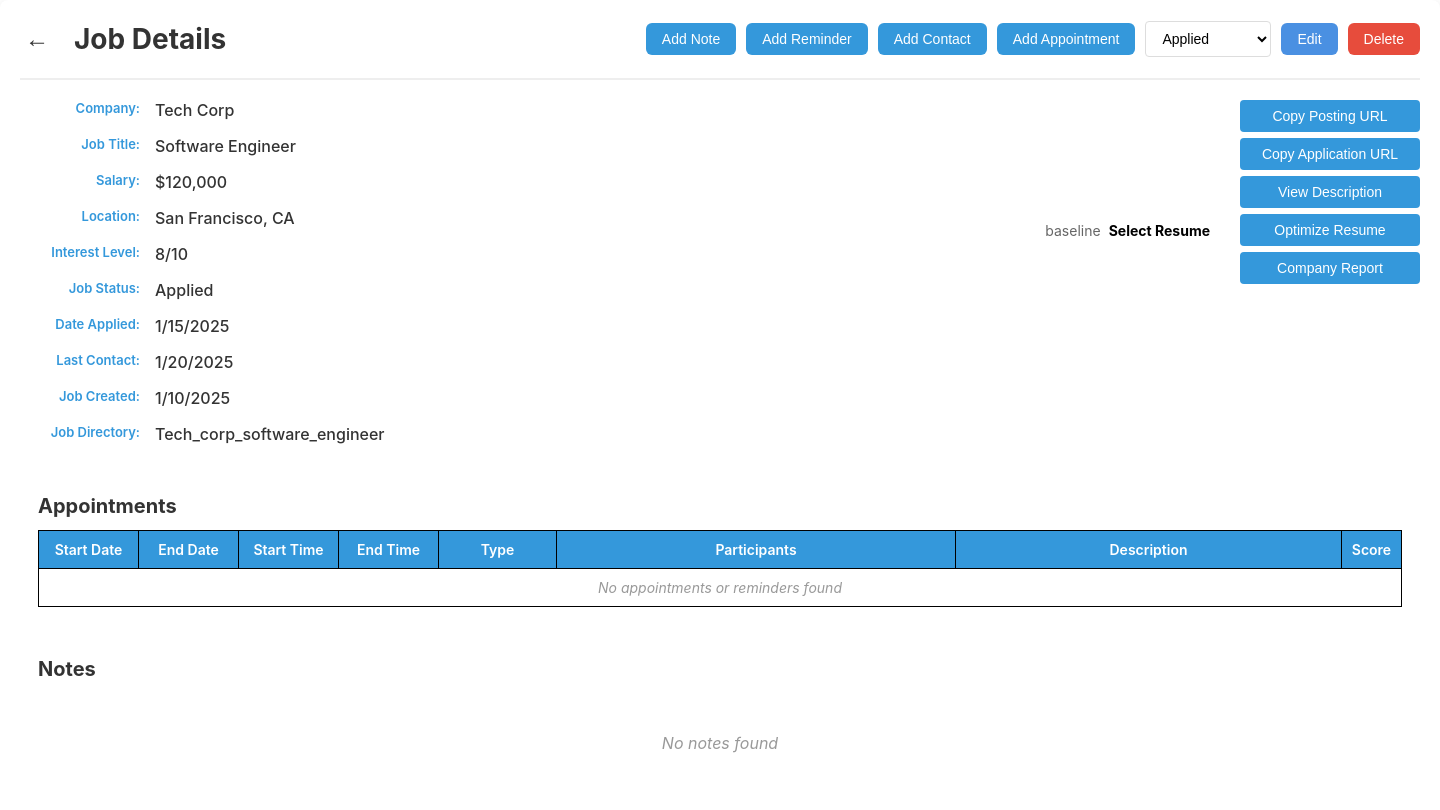
Test case: JobDetails Component › Description Modal › opens description modal
Step 1. Click the button "View Description" → point(1330, 192), box [1240, 176, 1420, 208]
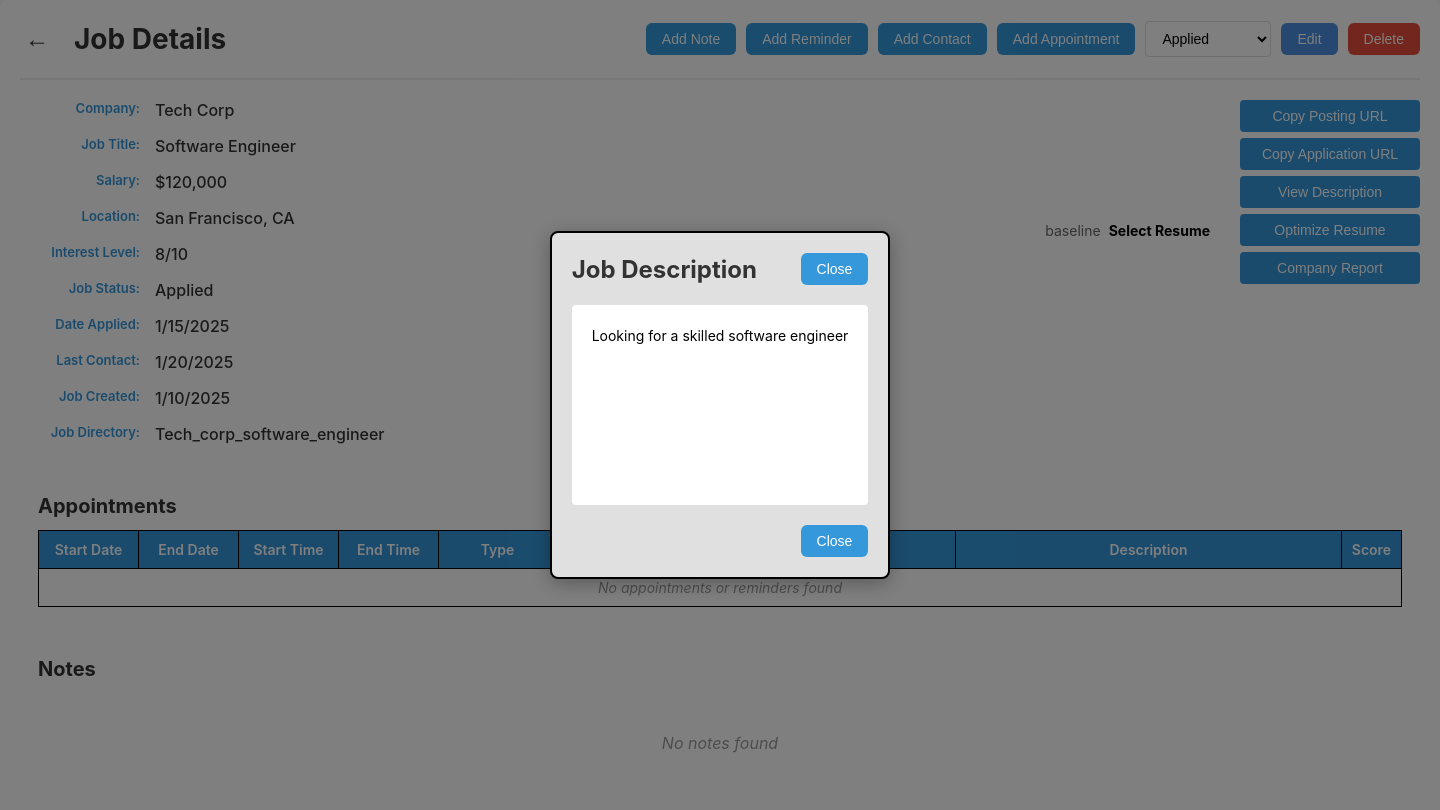
Result: the heading "Job Description" is shown at [572, 254, 757, 284]
Result: the text "Looking for a skilled software engineer" is shown at [572, 305, 868, 505]
